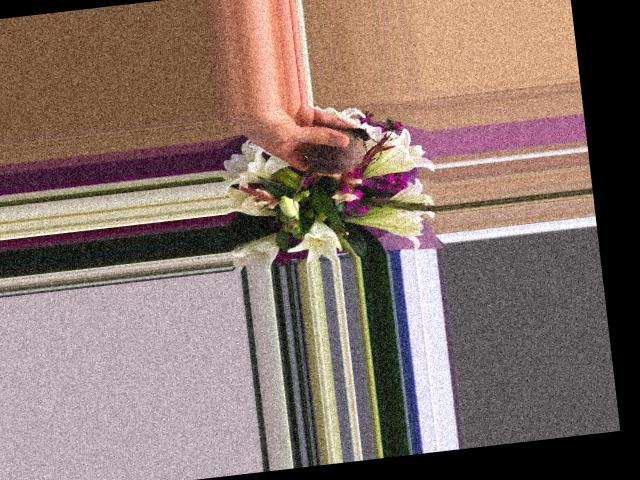beet: (285, 124, 388, 210)
